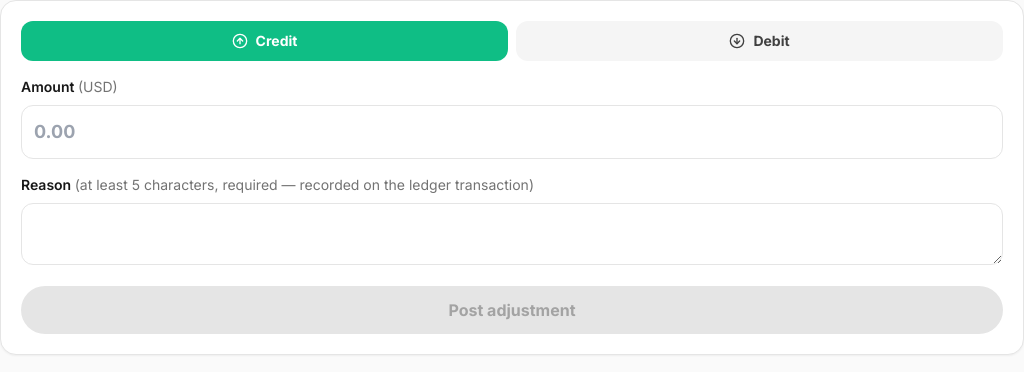
AdjustBalanceForm — manual balance adjustment › disables submission until both a positive amount and a reason of at least 5 characters are provided
This screenshot has width=1024, height=372.
Expected: the button "Post adjustment" is disabled, x1=21 y1=286 x2=1003 y2=334
Type "25" into the field with placeholder "0.00" at (512, 132), box x1=21 y1=105 x2=1003 y2=159
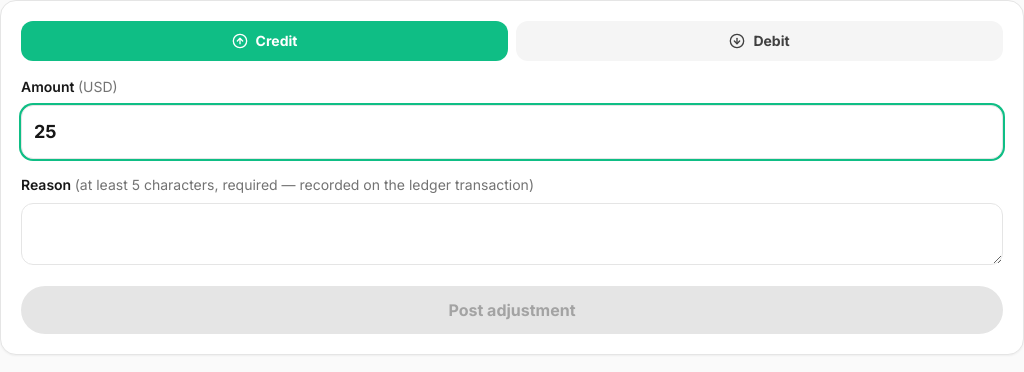
Expected: the button "Post adjustment" is disabled, x1=21 y1=286 x2=1003 y2=334
Type "ab" into the text box labelled "Reason" at (512, 234), box x1=21 y1=203 x2=1003 y2=265
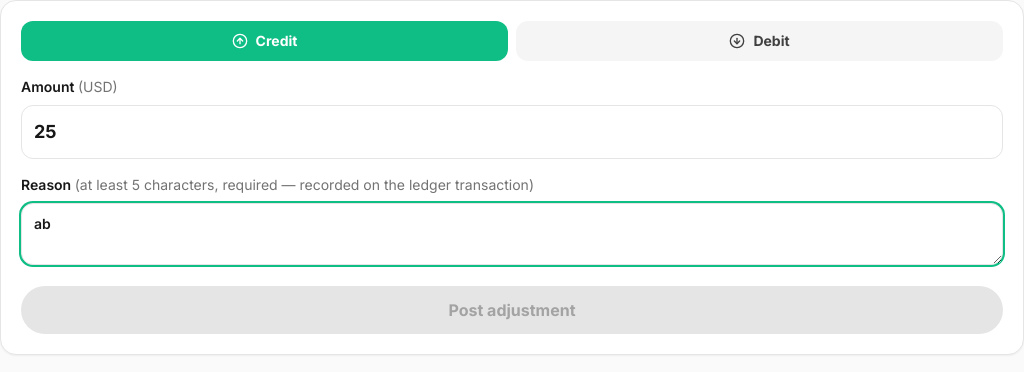
Expected: the button "Post adjustment" is disabled, x1=21 y1=286 x2=1003 y2=334
Type "cde" into the text box labelled "Reason" at (512, 234), box x1=21 y1=203 x2=1003 y2=265
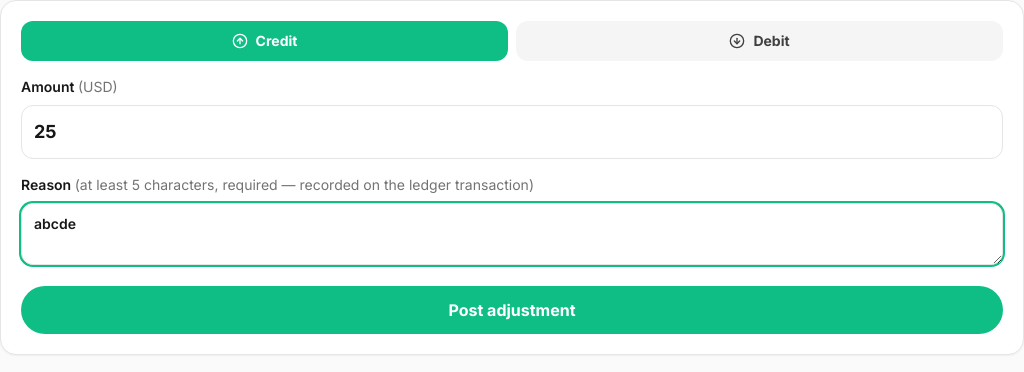
Expected: the button "Post adjustment" is enabled, x1=21 y1=286 x2=1003 y2=334
